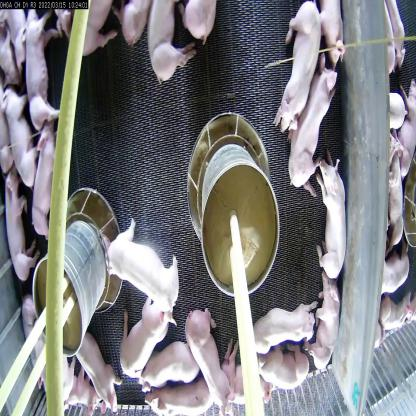Pig: (101, 222, 189, 315), (275, 0, 320, 143), (117, 291, 179, 384), (290, 67, 332, 196), (137, 0, 198, 84), (187, 304, 233, 414), (0, 82, 38, 198), (251, 300, 313, 370), (20, 13, 57, 121), (72, 331, 119, 415), (223, 347, 275, 415), (34, 127, 62, 248), (316, 156, 344, 275), (309, 272, 338, 386), (143, 333, 197, 394), (2, 164, 31, 275), (256, 353, 318, 400), (155, 372, 215, 415)
